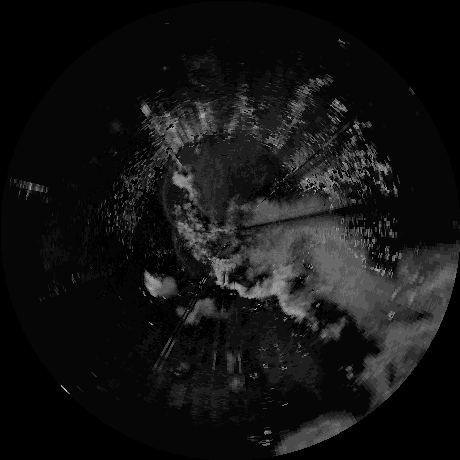frontgust: (162, 172, 176, 226), (169, 232, 188, 269)
